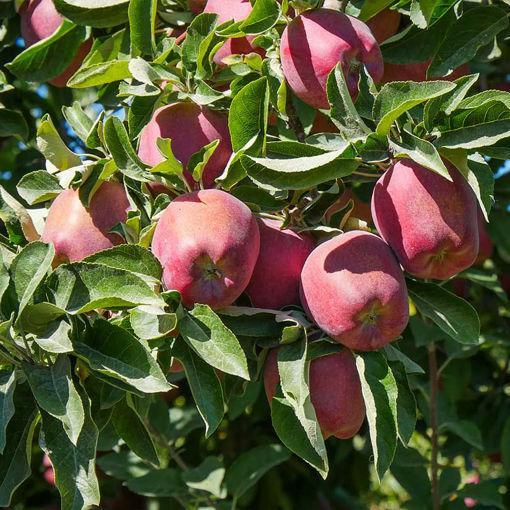apple: (370, 150, 479, 280), (302, 230, 411, 352), (150, 189, 256, 309), (260, 336, 366, 439), (277, 7, 383, 109), (137, 101, 232, 192), (236, 208, 316, 309), (42, 181, 133, 263)
